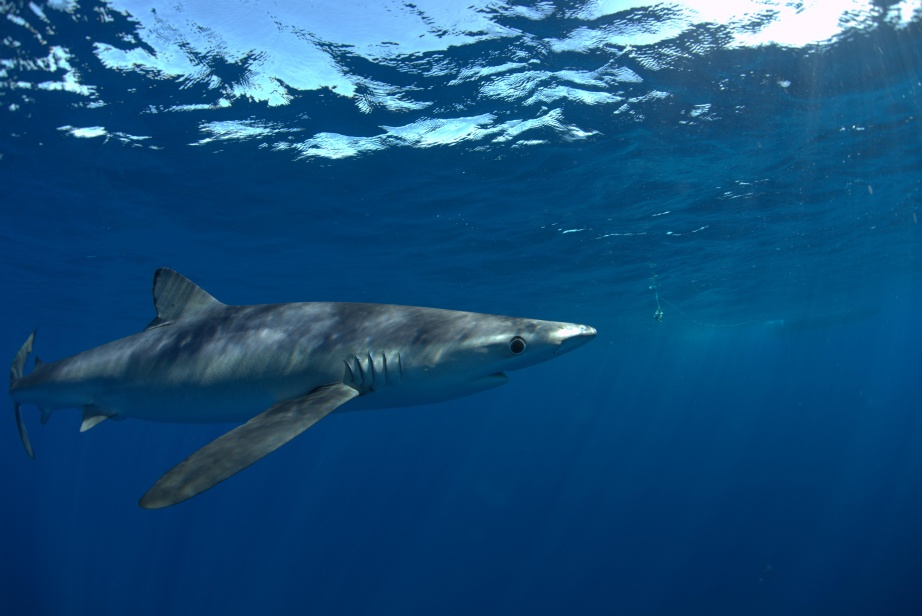Azul: (1, 245, 637, 529)
